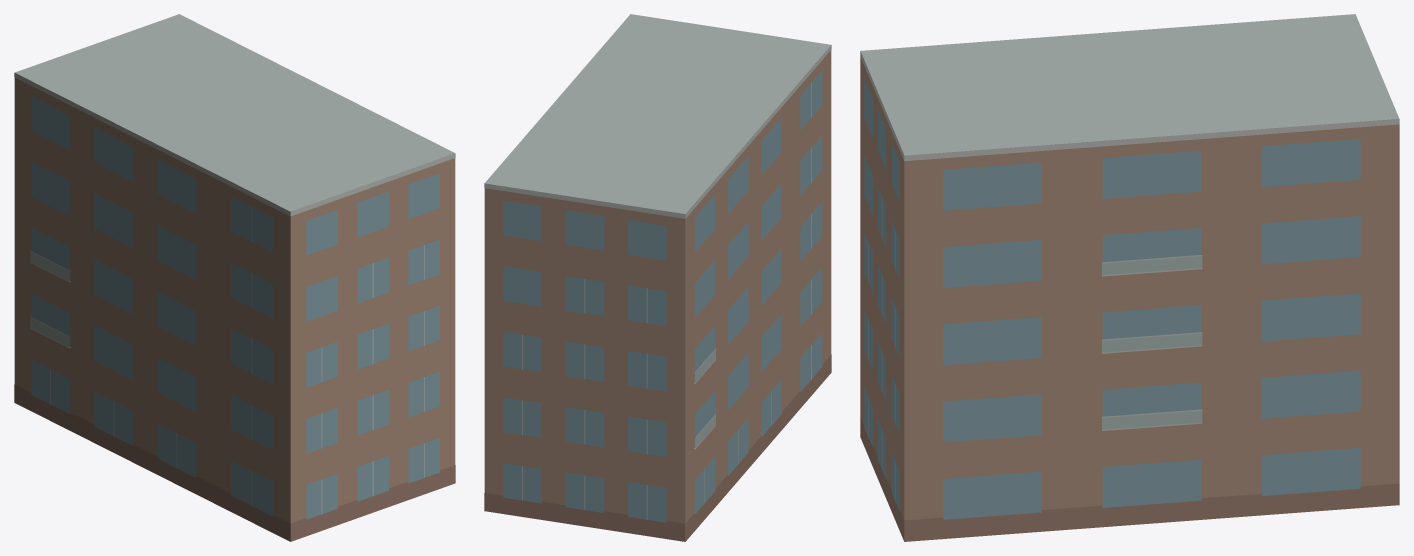
File: survey-upis-32611898.glb
3 renders of one model, left to right at view 1: azimuth 30°, elevation 25°; view 2: azimuth 150°, elevation 25°; view 3: azimuth 270°, elevation 25°, orthographic. The views are drawn at different scales.
Parts seen in each view (by area): view 1: survey-upis-32611898.tmp; view 2: survey-upis-32611898.tmp; view 3: survey-upis-32611898.tmp.
Part boxes in pixels (x1=…): survey-upis-32611898.tmp: x1=14, y1=14, x2=455, y2=541; survey-upis-32611898.tmp: x1=484, y1=14, x2=831, y2=541; survey-upis-32611898.tmp: x1=860, y1=14, x2=1399, y2=541.
Bounding box in the file's own units: 13.38 × 17 × 21.52.
